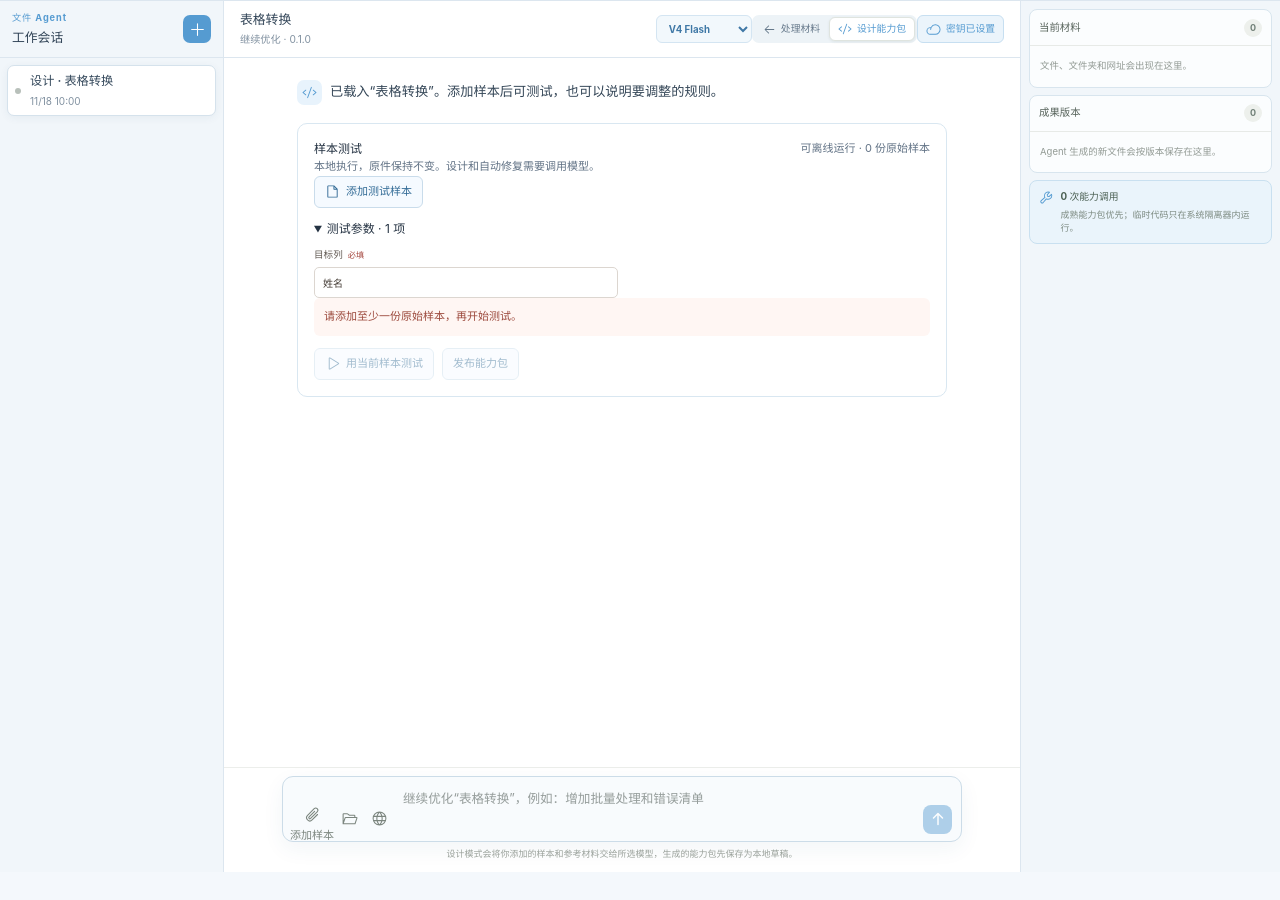
Test case: design session lifecycle › requires a fresh passing test after changing a parameter
The image size is (1280, 900).
Expected: the element named "能力包样本测试" is shown, [297,123,947,397]
Expected: the button named "新建设计会话" is enabled, [183,15,211,43]
Click the button titled "添加文件" at x=312, y=818, box [290,806,334,832]
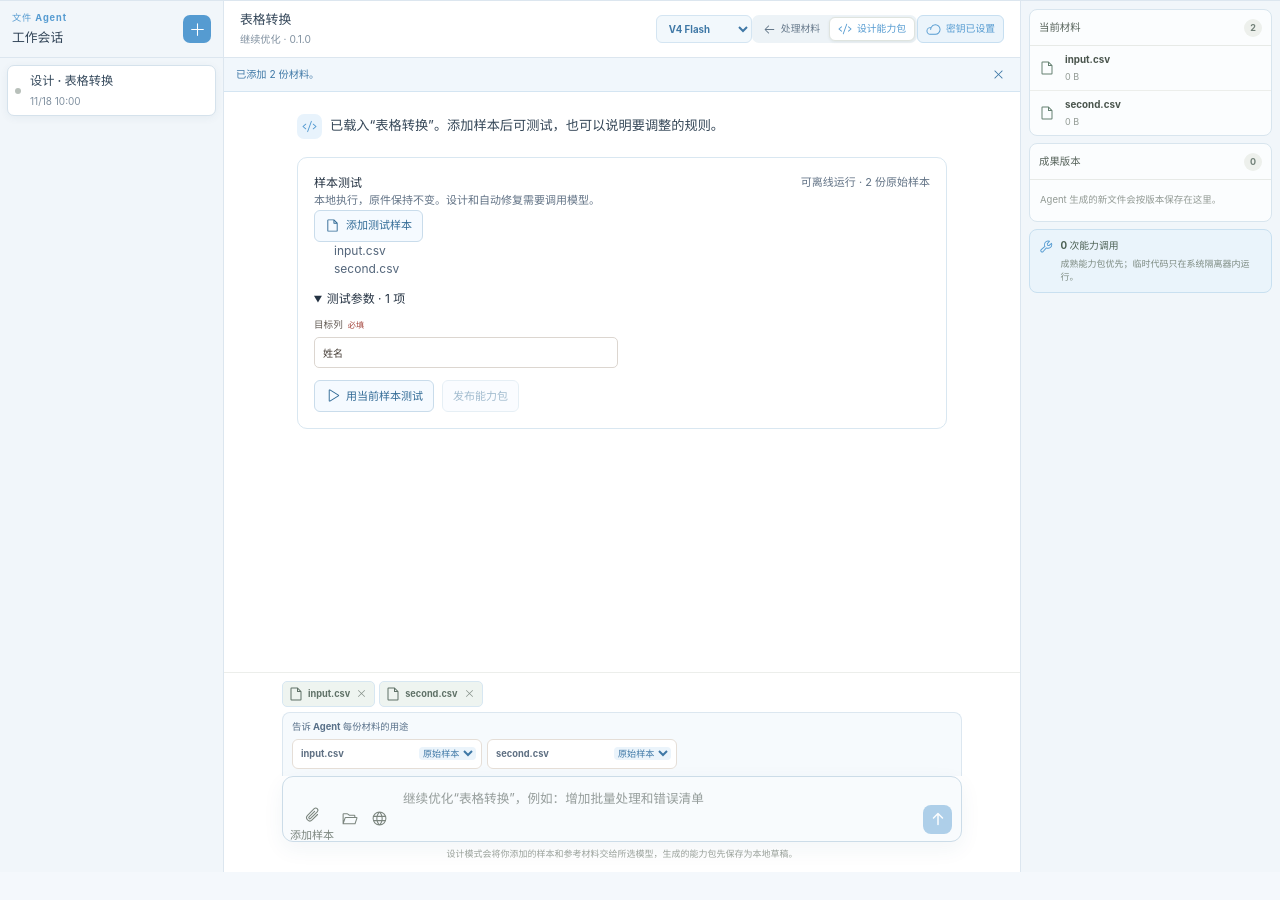
Result: the dropdown labelled "input.csv" is shown at [419,747,476,760]
Click the button "用当前样本测试" at x=374, y=396, box [314,380,434,412]
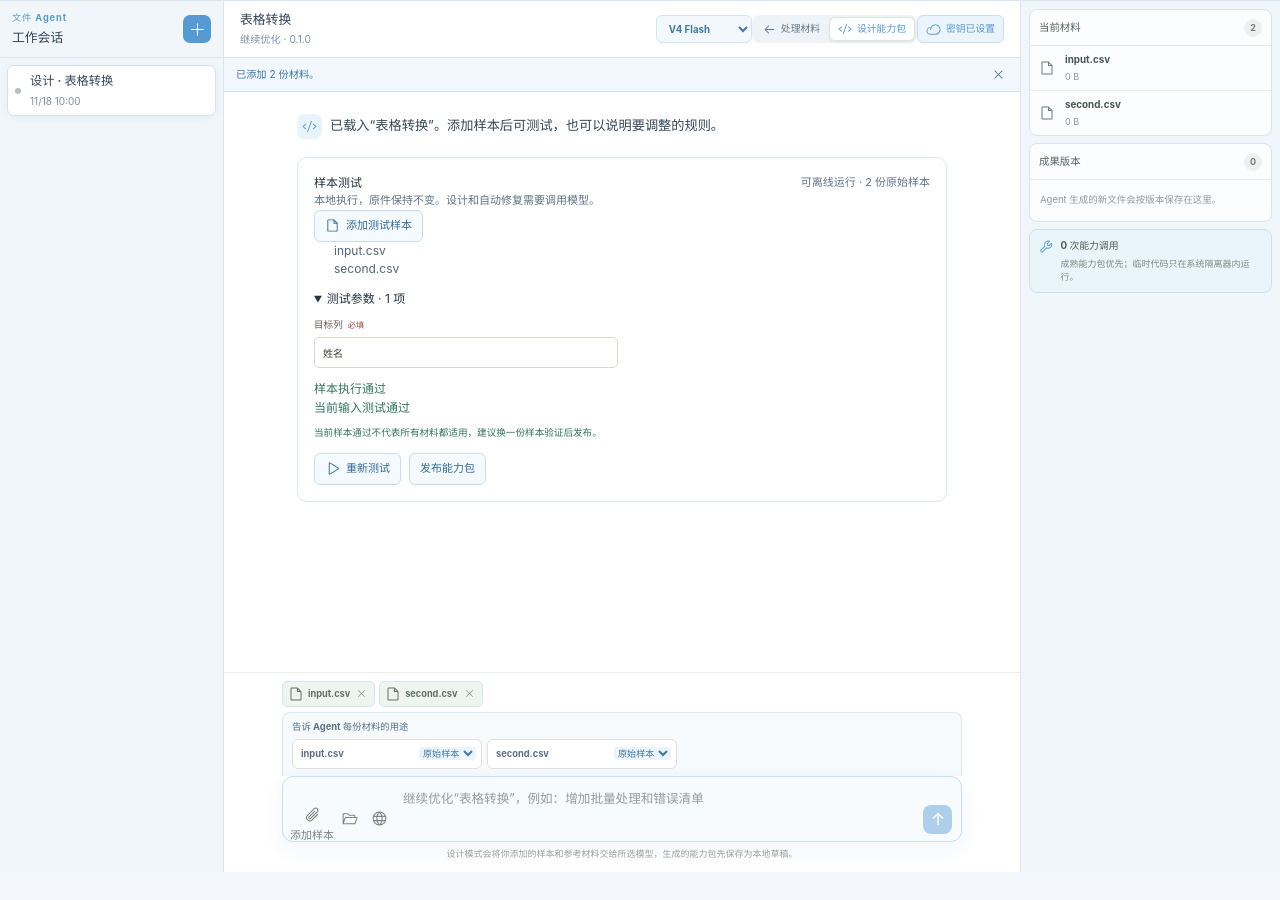
Result: the text "样本执行通过" is shown at [314,381,386,396]
Result: the button "发布能力包" is enabled at [409,452,486,484]
Replace the text in the field labelled "目标列必填" with "单位" at x=466, y=352, box [314,337,618,368]
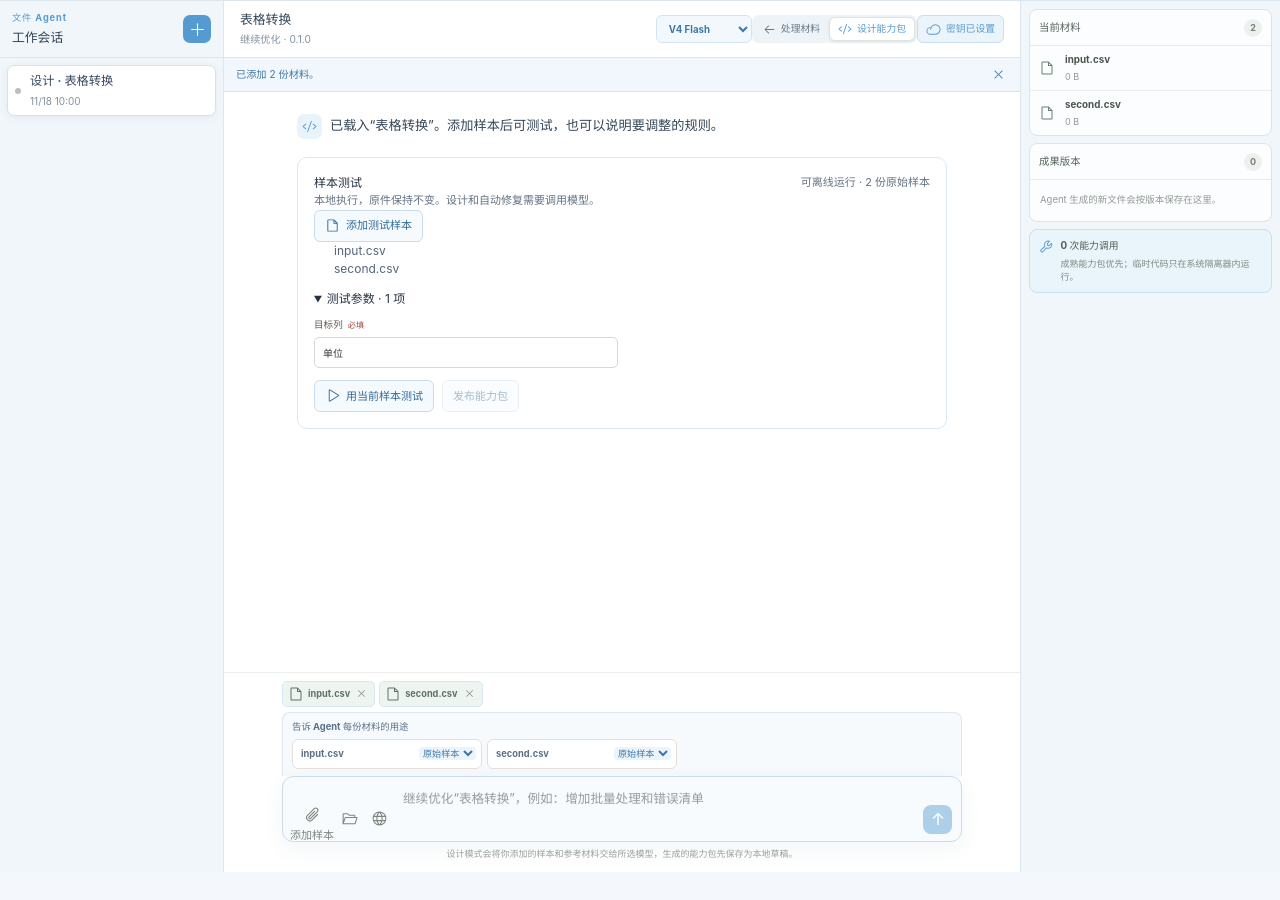
Result: the button "用当前样本测试" is enabled at [314,380,434,412]
Result: the text "样本执行通过" is gone
Result: the button "发布能力包" is disabled at [442,380,519,412]
